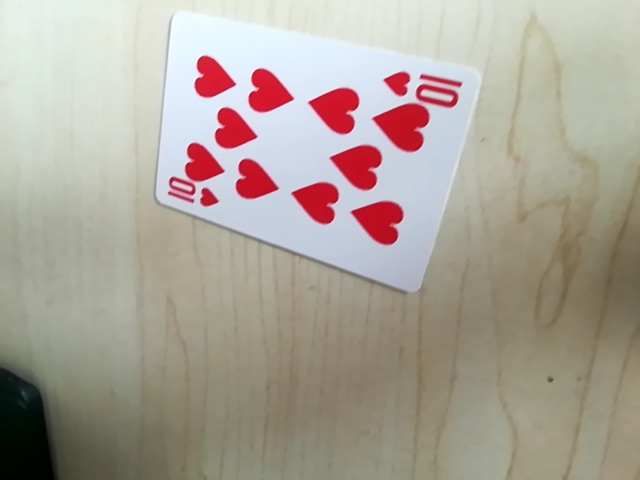hx 10: (386, 64, 463, 105), (163, 181, 223, 213)
